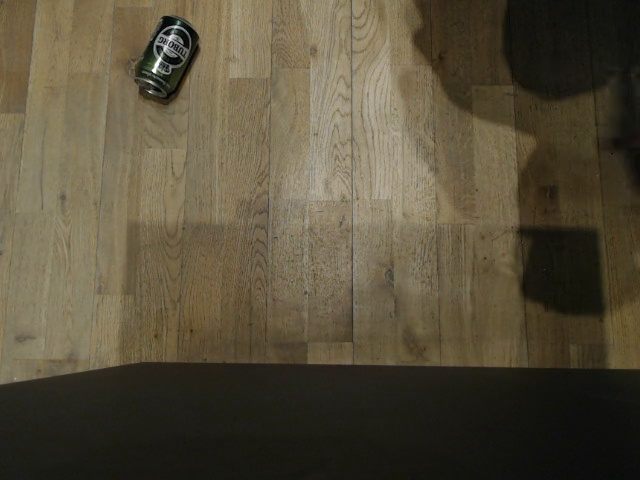beer: (133, 14, 200, 100)
